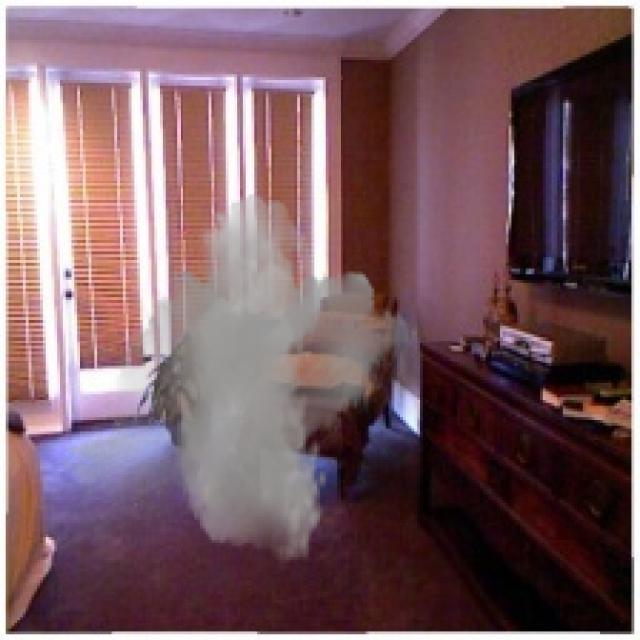Smoke: (60, 194, 420, 563)
